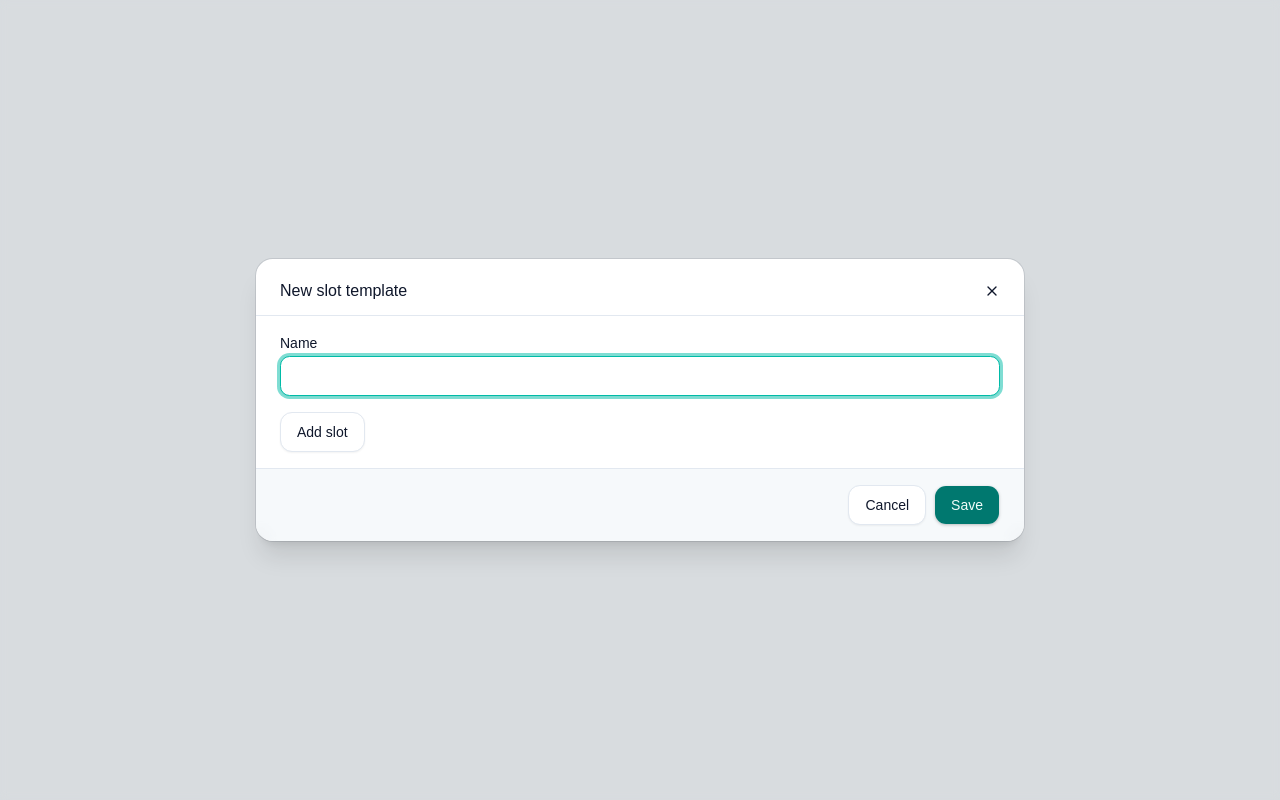
Scenario: SlotTemplateDialog › requires at least one weekday per slot
Type "T" into the field labelled "Name". click: (640, 376)
box: [280,356,1000,396]
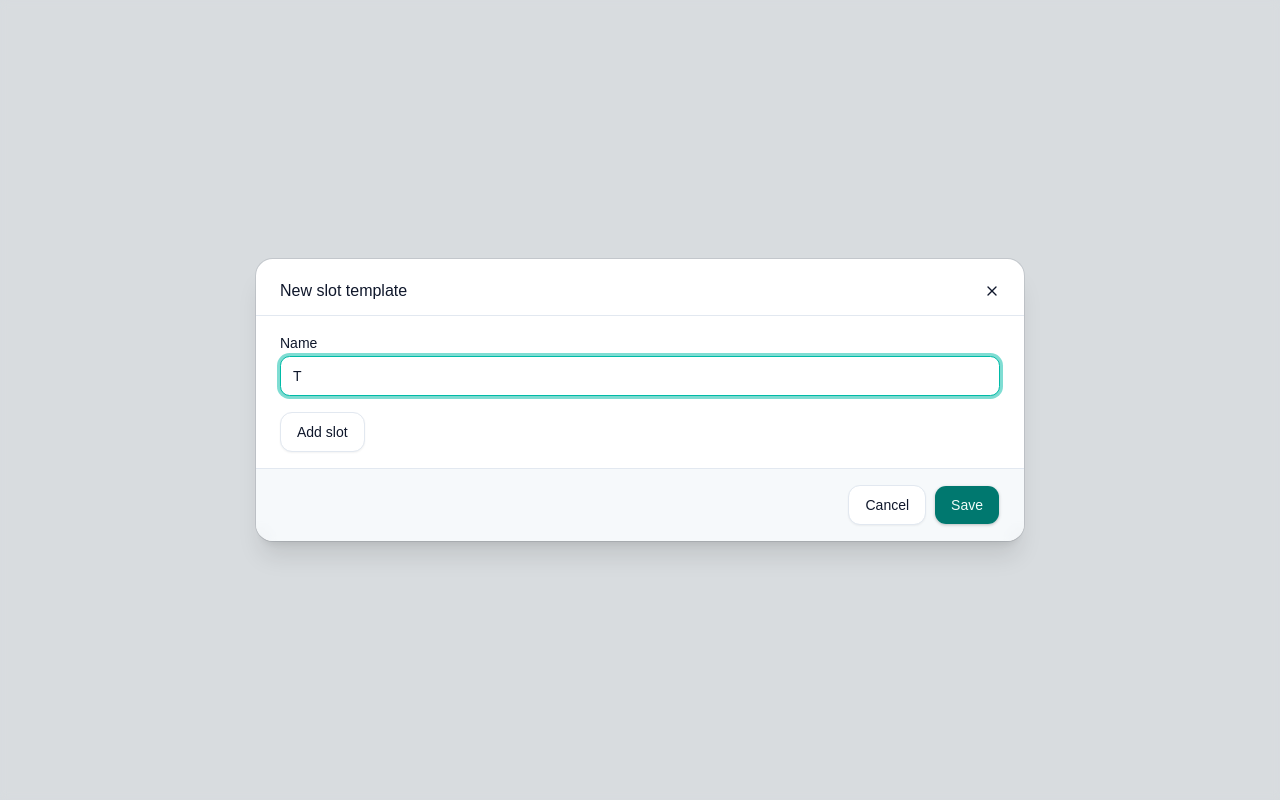
Click the button "Add slot". click: (322, 432)
box: [280,412,365,452]
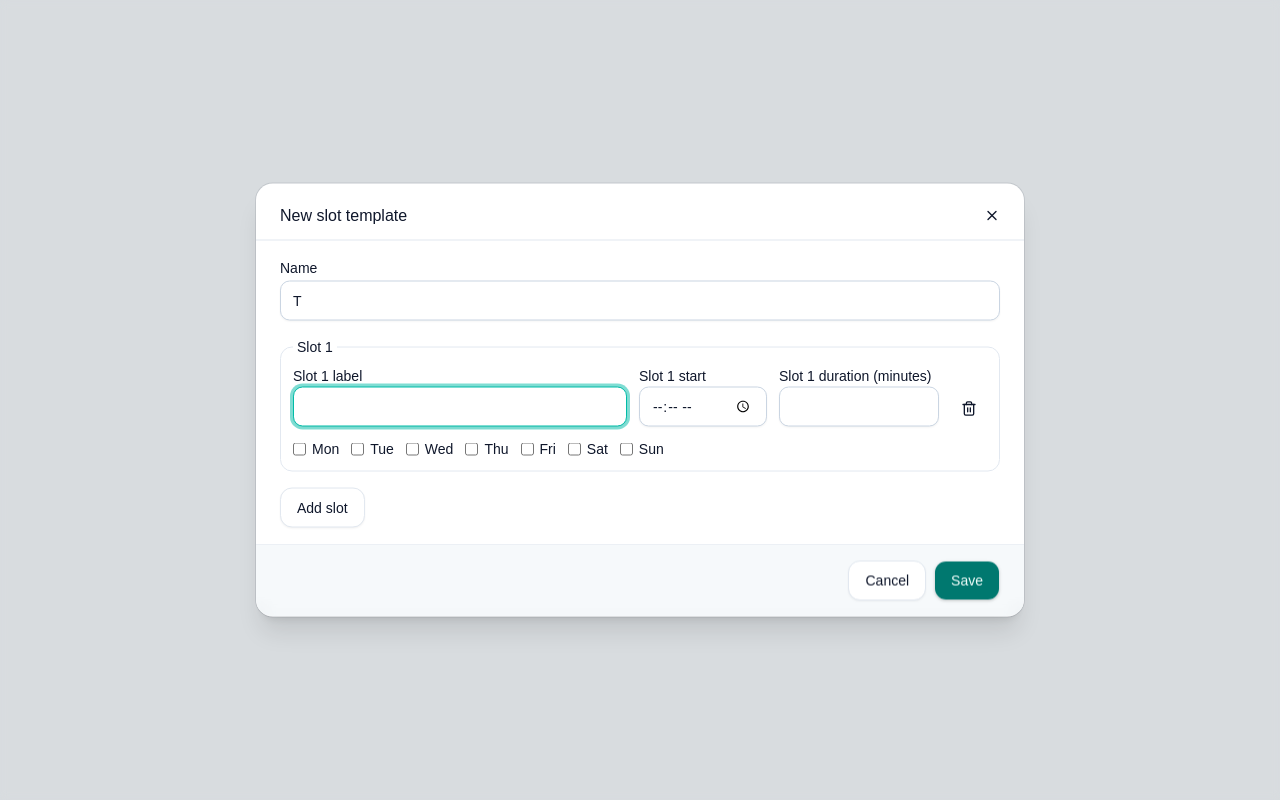
Type "P1" into the field labelled "Slot 1 label". click: (460, 406)
box: [293,386,627,426]
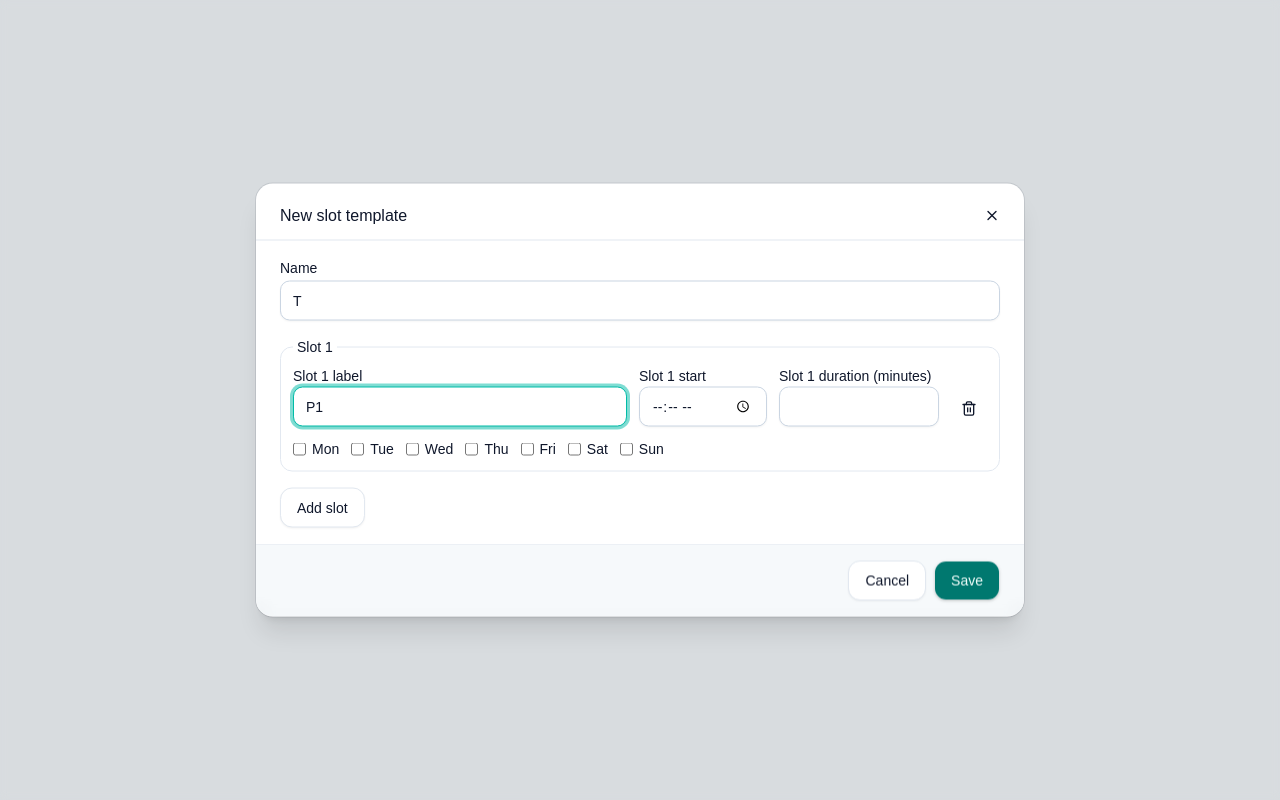
Type "08:00" into the time field labelled "Slot 1 start". click: (703, 406)
box: [639,386,767,426]
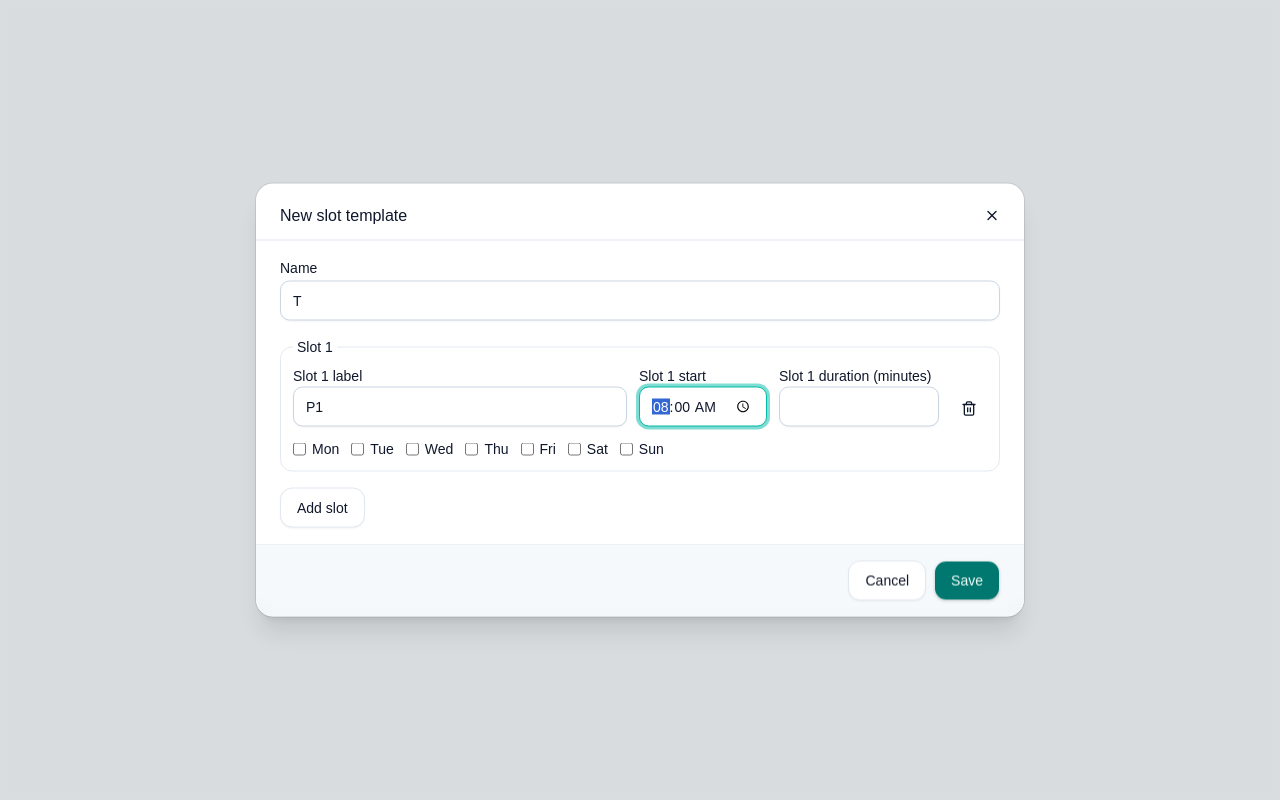
Type "60" into the field labelled "Slot 1 duration (minutes)". click: (859, 406)
box: [779,386,939,426]
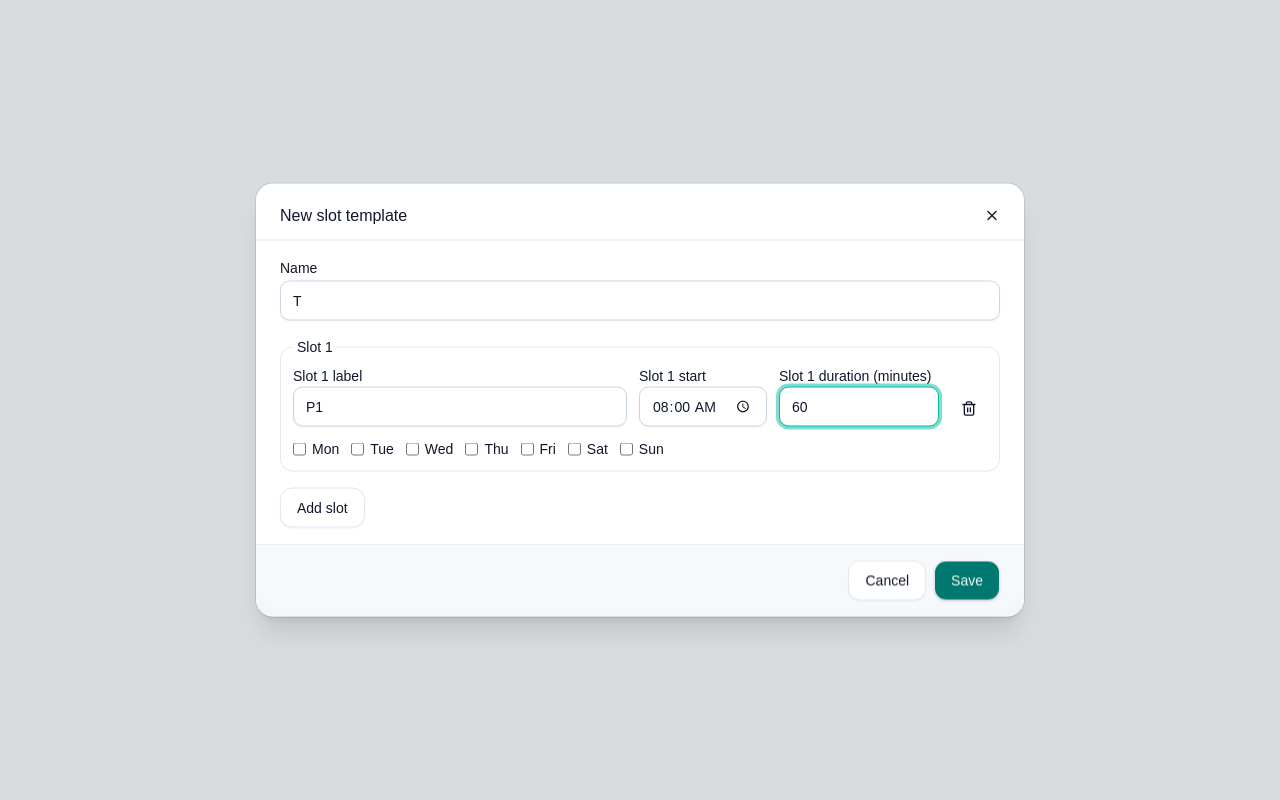
Click the button "Save". click: (967, 580)
box: [934,560,1000,600]
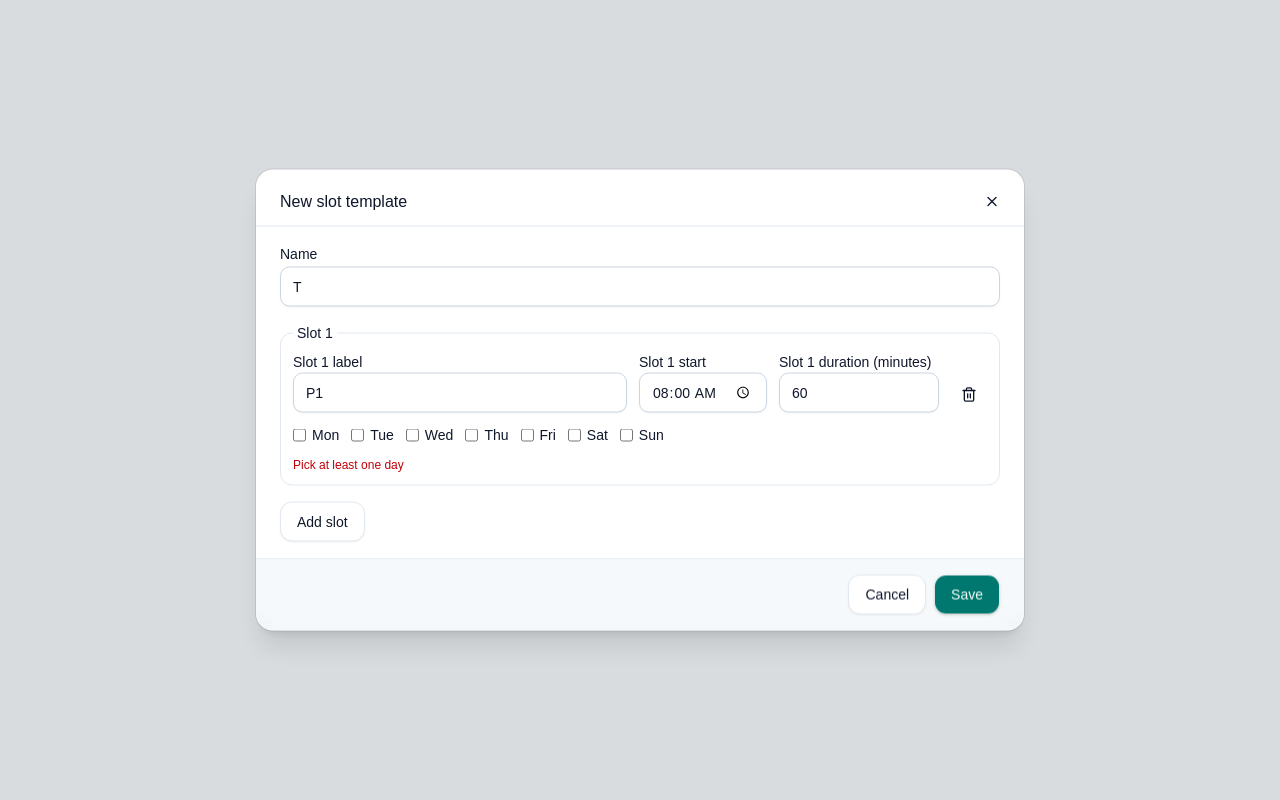
Expected: the text "Pick at least one day" is shown, [293,458,404,472]
